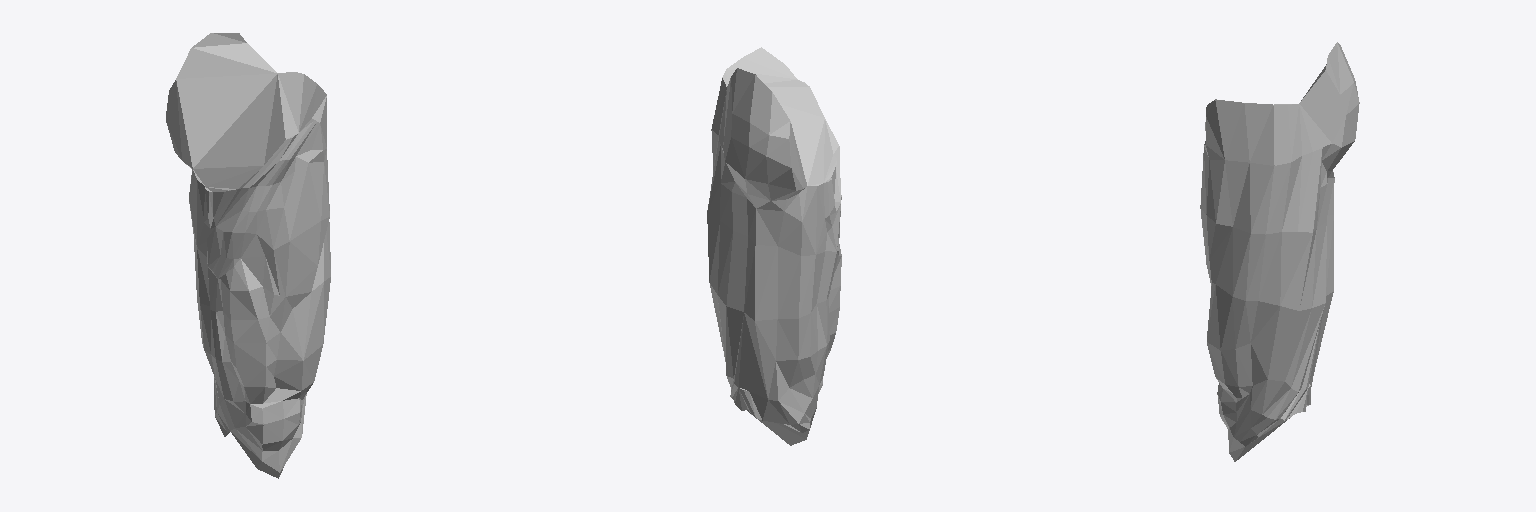
Rendered from leftthigh.obj.
3 renders of one model, left to right at view 1: azimuth 30°, elevation 25°; view 2: azimuth 150°, elevation 25°; view 3: azimuth 270°, elevation 25°, orthographic.
Visible parts, largest first — view 1: cube1_copy14; view 2: cube1_copy14; view 3: cube1_copy14.
Boxes of the visible parts, x1=… form: cube1_copy14: x1=166, y1=33, x2=330, y2=478; cube1_copy14: x1=707, y1=47, x2=841, y2=445; cube1_copy14: x1=1200, y1=42, x2=1359, y2=461.
Bounding box in the file's own units: 0.9806 × 3.3 × 1.15.